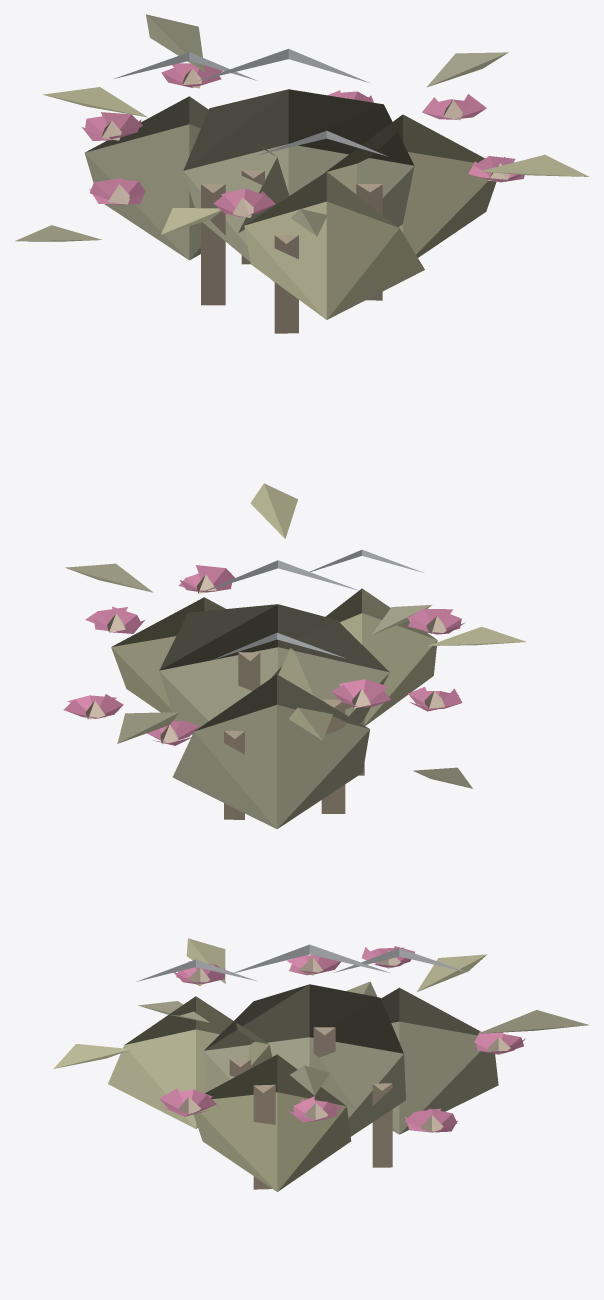
File: guan.aili@flowering__winter.glb
3 views of the same model, one above another, from view 1: azimuth 30°, elevation 25°; view 2: azimuth 150°, elevation 25°; view 3: azimuth 270°, elevation 25° (orthographic). The views are drawn at different scales.
Visible parts, largest first — view 1: guan.aili@flowering__winter; view 2: guan.aili@flowering__winter; view 3: guan.aili@flowering__winter.
Part boxes in pixels (x1,y1,x2,y2): guan.aili@flowering__winter: (15,14,589,333); guan.aili@flowering__winter: (63,483,526,828); guan.aili@flowering__winter: (53,938,589,1191).
Size of the model in its own units: 2.33 by 1.07 by 2.49.
